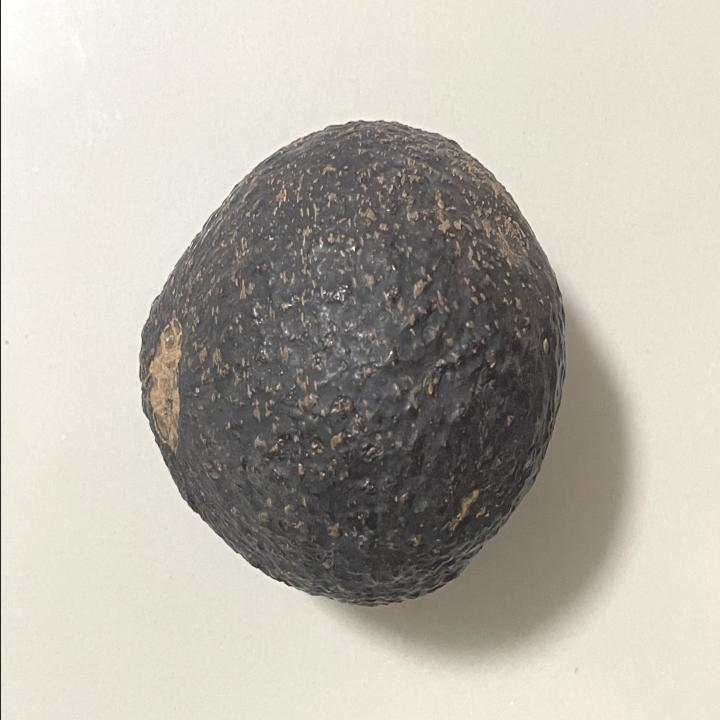Level3: (125, 111, 572, 615)
